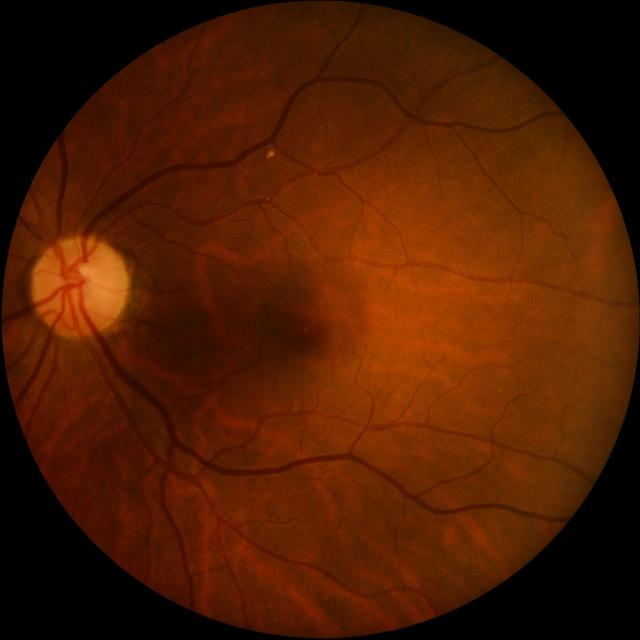OC: (70, 263, 97, 297)
OD: (29, 235, 128, 335)
